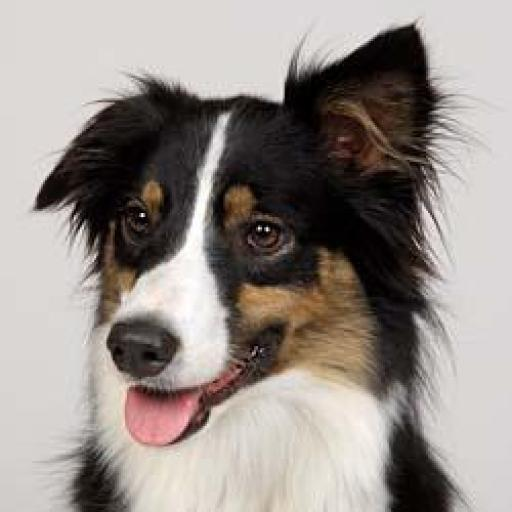dog_face: (58, 26, 436, 429)
